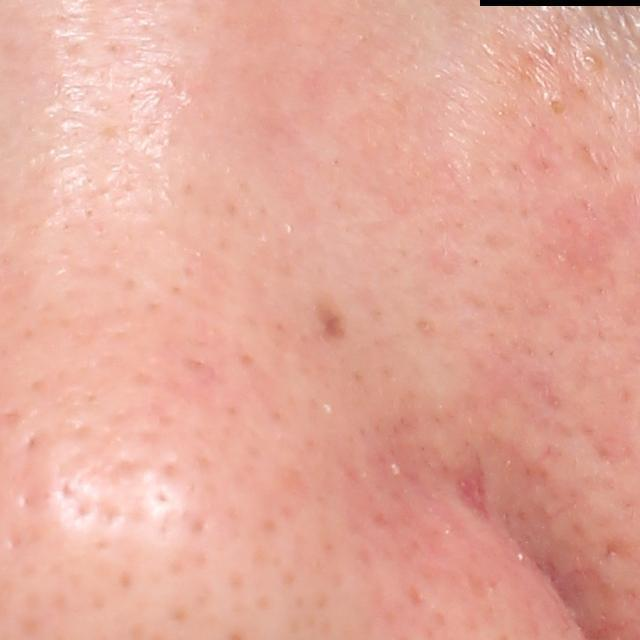comedo: (548, 94, 569, 118)
nevus: (314, 294, 347, 339)
